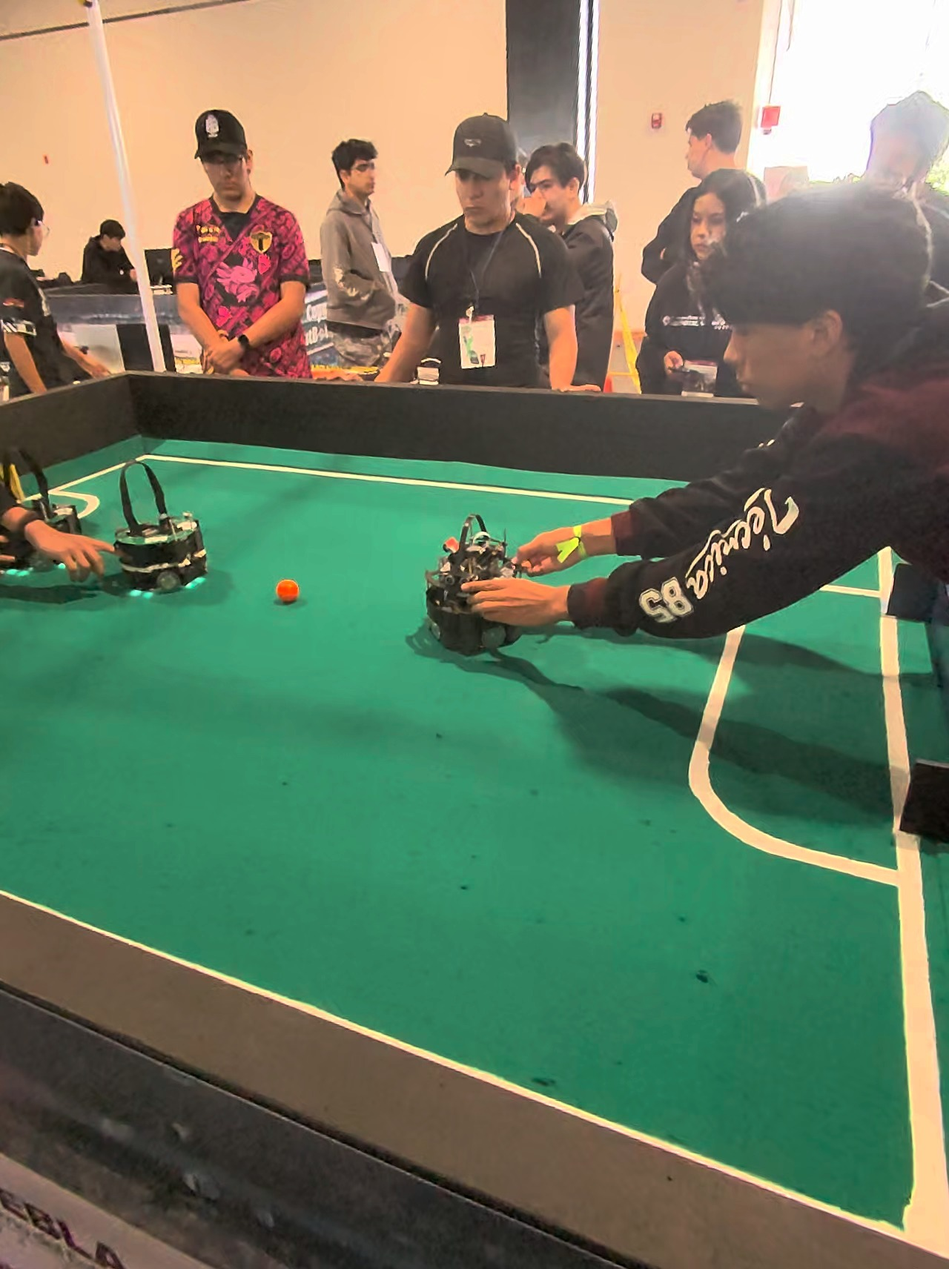Robot: (83, 435, 214, 612), (426, 513, 526, 673)
pelota: (267, 571, 305, 611)
